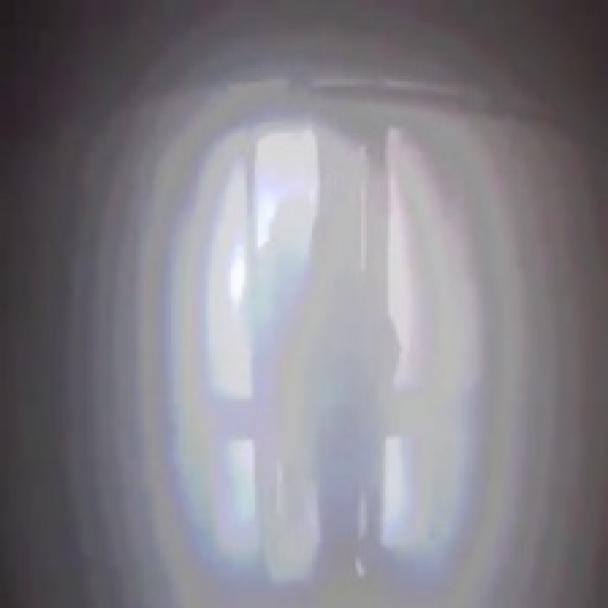smoke: (112, 8, 606, 605)
